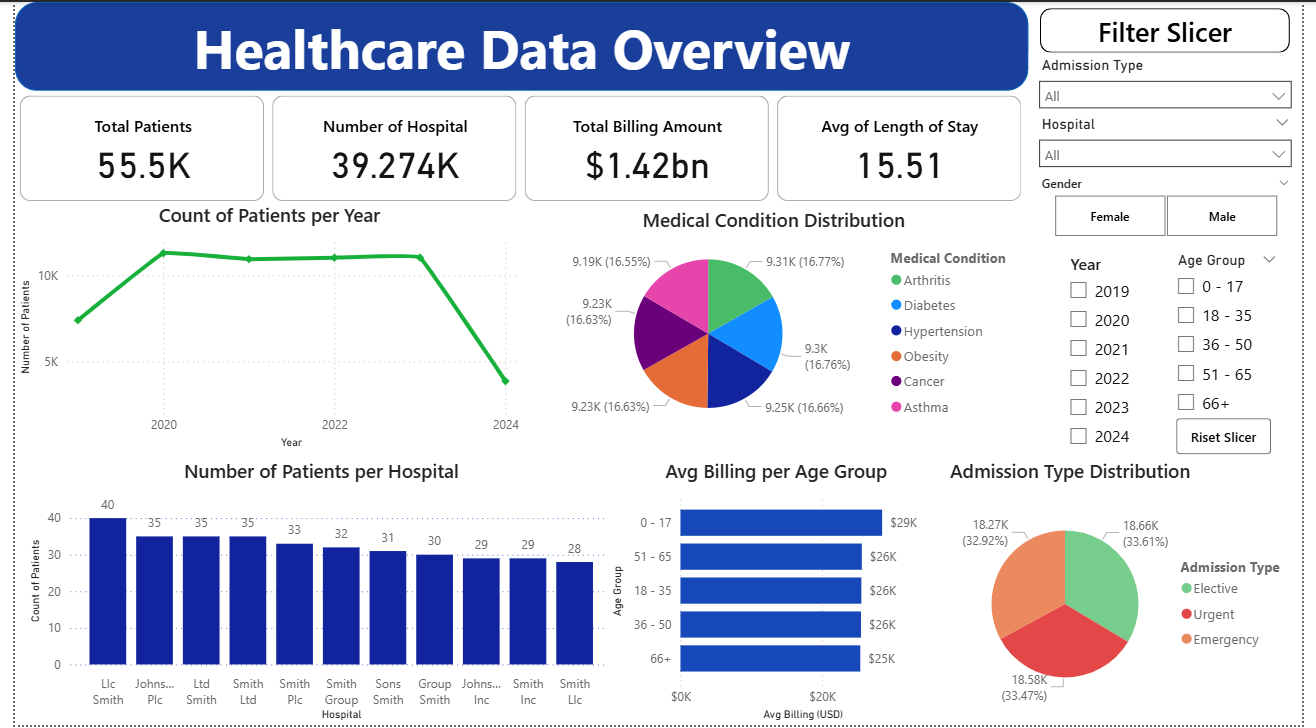

Layout of this report page (visuals, bound fields, positions):
{"tool":"powerbi","page":{"name":"Page 1","canvas":[1280,720],"ordinal":0},"visuals":[{"type":"clusteredColumnChart","title":"Number of Patients per Hospital","fields":{"Category":["Cleaned_healthcare_dataset.Hospital"],"Y":["Cleaned_healthcare_dataset.Name"]},"box":[10,454,589.6,266.2],"z":0},{"type":"clusteredBarChart","title":"Avg Billing per Age Group","fields":{"Category":["Cleaned_healthcare_dataset.Age Group"],"Y":["Cleaned_healthcare_dataset.Billing Amount"]},"box":[590,454.3,335.7,265.7],"z":1000},{"type":"pieChart","title":"Medical Condition Distribution","fields":{"Category":["Cleaned_healthcare_dataset.Medical Condition"],"Y":["Cleaned_healthcare_dataset.Name"]},"box":[503.8,204,502.6,227.6],"z":2000},{"type":"pieChart","title":"Admission Type Distribution","fields":{"Category":["Cleaned_healthcare_dataset.Admission Type"],"Y":["Cleaned_healthcare_dataset.Name"]},"box":[925.7,454.3,354.3,265.7],"z":3000},{"type":"lineChart","title":"Count of Patients per Year","fields":{"Category":["Cleaned_healthcare_dataset.Admission Year"],"Y":["Cleaned_healthcare_dataset.Name"]},"box":[0,199,506.3,250],"z":4000},{"type":"shape","box":[0,0,1008.6,88.6],"z":5000},{"type":"group","id":"g1","title":"Group 1","box":[1008.6,50,271.4,404.3],"z":6000},{"type":"shape","box":[1020,5.7,248.6,44.3],"z":7000},{"type":"cardVisual","fields":{"Data":["Cleaned_healthcare_dataset.Name","Cleaned_healthcare_dataset.Hospital","Cleaned_healthcare_dataset.Billing Amount","Cleaned_healthcare_dataset.Length of stay"]},"box":[0,88.6,1008.6,115.7],"z":8000},{"type":"slicer","fields":{"Values":["Cleaned_healthcare_dataset.Admission Year"]},"box":[1037.2,244.3,107.1,210],"z":9000,"group":"g1"},{"type":"actionButton","box":[1155.7,414.3,94.3,35.7],"z":9000},{"type":"slicer","fields":{"Values":["Cleaned_healthcare_dataset.Gender"]},"box":[1008.6,168.6,271.4,71.4],"z":10000,"group":"g1"},{"type":"slicer","fields":{"Values":["Cleaned_healthcare_dataset.Age Group"]},"box":[1144.3,244.3,122.9,205.7],"z":11000,"group":"g1"},{"type":"slicer","fields":{"Values":["Cleaned_healthcare_dataset.Hospital"]},"box":[1008.6,108.6,271.4,60],"z":12000,"group":"g1"},{"type":"slicer","fields":{"Values":["Cleaned_healthcare_dataset.Admission Type"]},"box":[1008.6,50,271.4,58.6],"z":13000,"group":"g1"}]}

Visuals, with their boxes in screenshot pixels (x1, y1, x2, y2), scaled from the page's 1280x720 canvas onto the 1316x728 screenshot:
"Number of Patients per Hospital" clusteredColumnChart: <box>10,459,616,727</box>
"Avg Billing per Age Group" clusteredBarChart: <box>607,459,952,727</box>
"Medical Condition Distribution" pieChart: <box>518,206,1035,436</box>
"Admission Type Distribution" pieChart: <box>952,459,1315,727</box>
"Count of Patients per Year" lineChart: <box>0,201,521,454</box>
shape: <box>0,0,1037,90</box>
"Group 1" group: <box>1037,51,1315,459</box>
shape: <box>1049,6,1304,51</box>
cardVisual - Cleaned_healthcare_dataset.Name x Cleaned_healthcare_dataset.Hospital: <box>0,90,1037,207</box>
slicer - Cleaned_healthcare_dataset.Admission Year: <box>1066,247,1176,459</box>
actionButton: <box>1188,419,1285,455</box>
slicer - Cleaned_healthcare_dataset.Gender: <box>1037,170,1315,243</box>
slicer - Cleaned_healthcare_dataset.Age Group: <box>1176,247,1303,455</box>
slicer - Cleaned_healthcare_dataset.Hospital: <box>1037,110,1315,170</box>
slicer - Cleaned_healthcare_dataset.Admission Type: <box>1037,51,1315,110</box>
